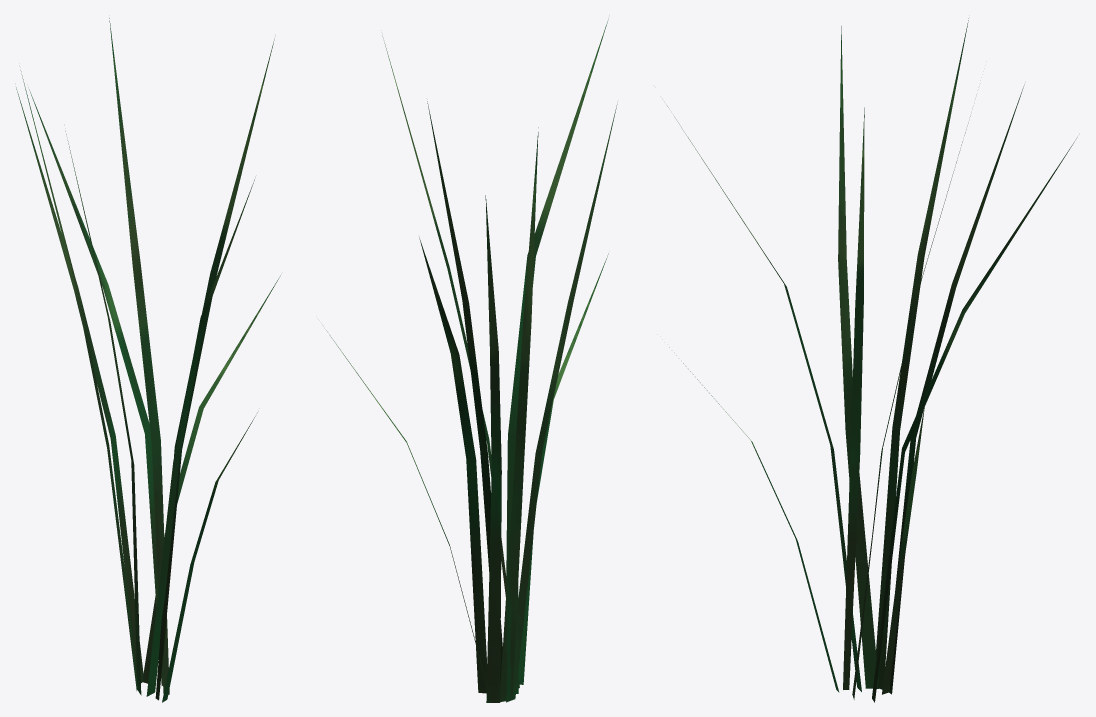
The model's file is SM_Tree_And_Bushes.fbx_SM_Bush_12.fbx.
3 renders of one model, left to right at view 1: azimuth 30°, elevation 25°; view 2: azimuth 150°, elevation 25°; view 3: azimuth 270°, elevation 25°, orthographic. The views are drawn at different scales.
Visible parts, largest first — view 1: SM_Tree_22; view 2: SM_Tree_22; view 3: SM_Tree_22.
Boxes of the visible parts, box(x1,y1,x2,y2) form: SM_Tree_22: box(16, 18, 280, 702); SM_Tree_22: box(326, 19, 617, 702); SM_Tree_22: box(667, 18, 1077, 702).
Size of the model in its own units: 1147 by 2649 by 1605.
